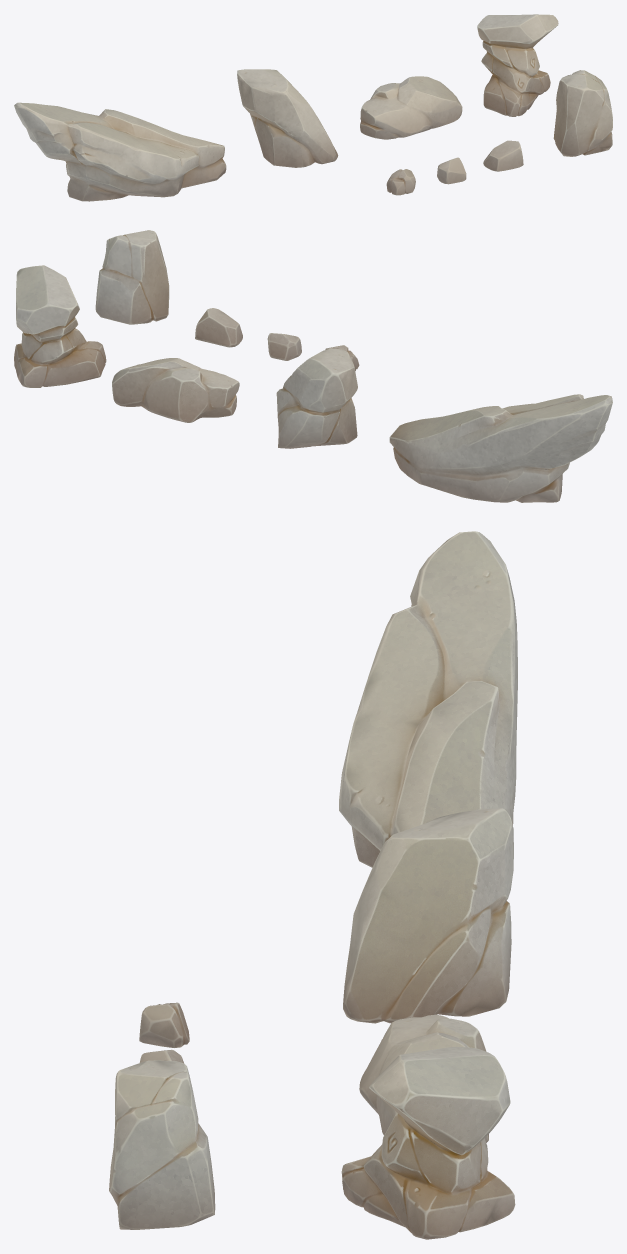
File: rock01.glb
3 views of the same model, one above another, from view 1: azimuth 30°, elevation 25°; view 2: azimuth 150°, elevation 25°; view 3: azimuth 270°, elevation 25° (orthographic). The views are drawn at different scales.
Visible parts, largest first — view 1: Rock2, Rock7, Rock1, Rock6, Rock8, Rock5, Rock3, Rock4; view 2: Rock2, Rock1, Rock7, Rock6, Rock8, Rock5, Rock4; view 3: Rock2, Rock7, Rock1, Rock8, Rock6, Rock3.
Part boxes in pixels (x1,y1,x2,y2): Rock2: (14, 102, 226, 201); Rock7: (237, 69, 338, 167); Rock1: (477, 14, 558, 116); Rock6: (360, 76, 462, 139); Rock8: (553, 70, 612, 156); Rock5: (483, 140, 523, 171); Rock3: (386, 169, 415, 195); Rock4: (437, 157, 466, 184); Rock2: (389, 394, 612, 502); Rock1: (14, 265, 106, 387); Rock7: (276, 348, 357, 448); Rock6: (112, 358, 239, 422); Rock8: (95, 230, 169, 324); Rock5: (195, 308, 242, 347); Rock4: (267, 333, 301, 360); Rock2: (339, 531, 517, 867); Rock7: (343, 808, 513, 1023); Rock1: (341, 1047, 515, 1239); Rock8: (109, 1060, 215, 1229); Rock6: (359, 1014, 488, 1142); Rock3: (139, 1002, 189, 1047).
Size of the model in its own units: 9.69 by 1.88 by 3.27.
Materials: 1 (1 with a texture image).
